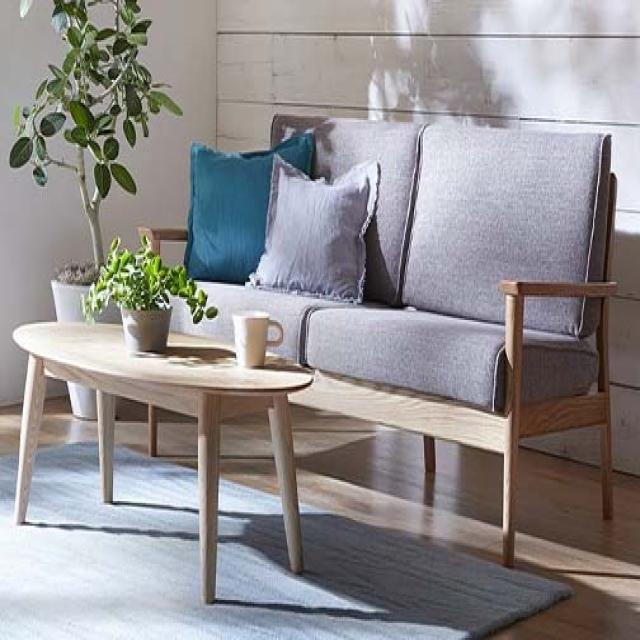white sofa: (165, 118, 598, 520)
